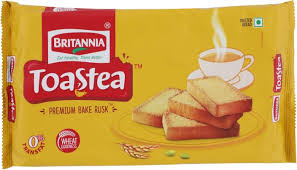Britania-toast-med: (2, 1, 297, 165)
